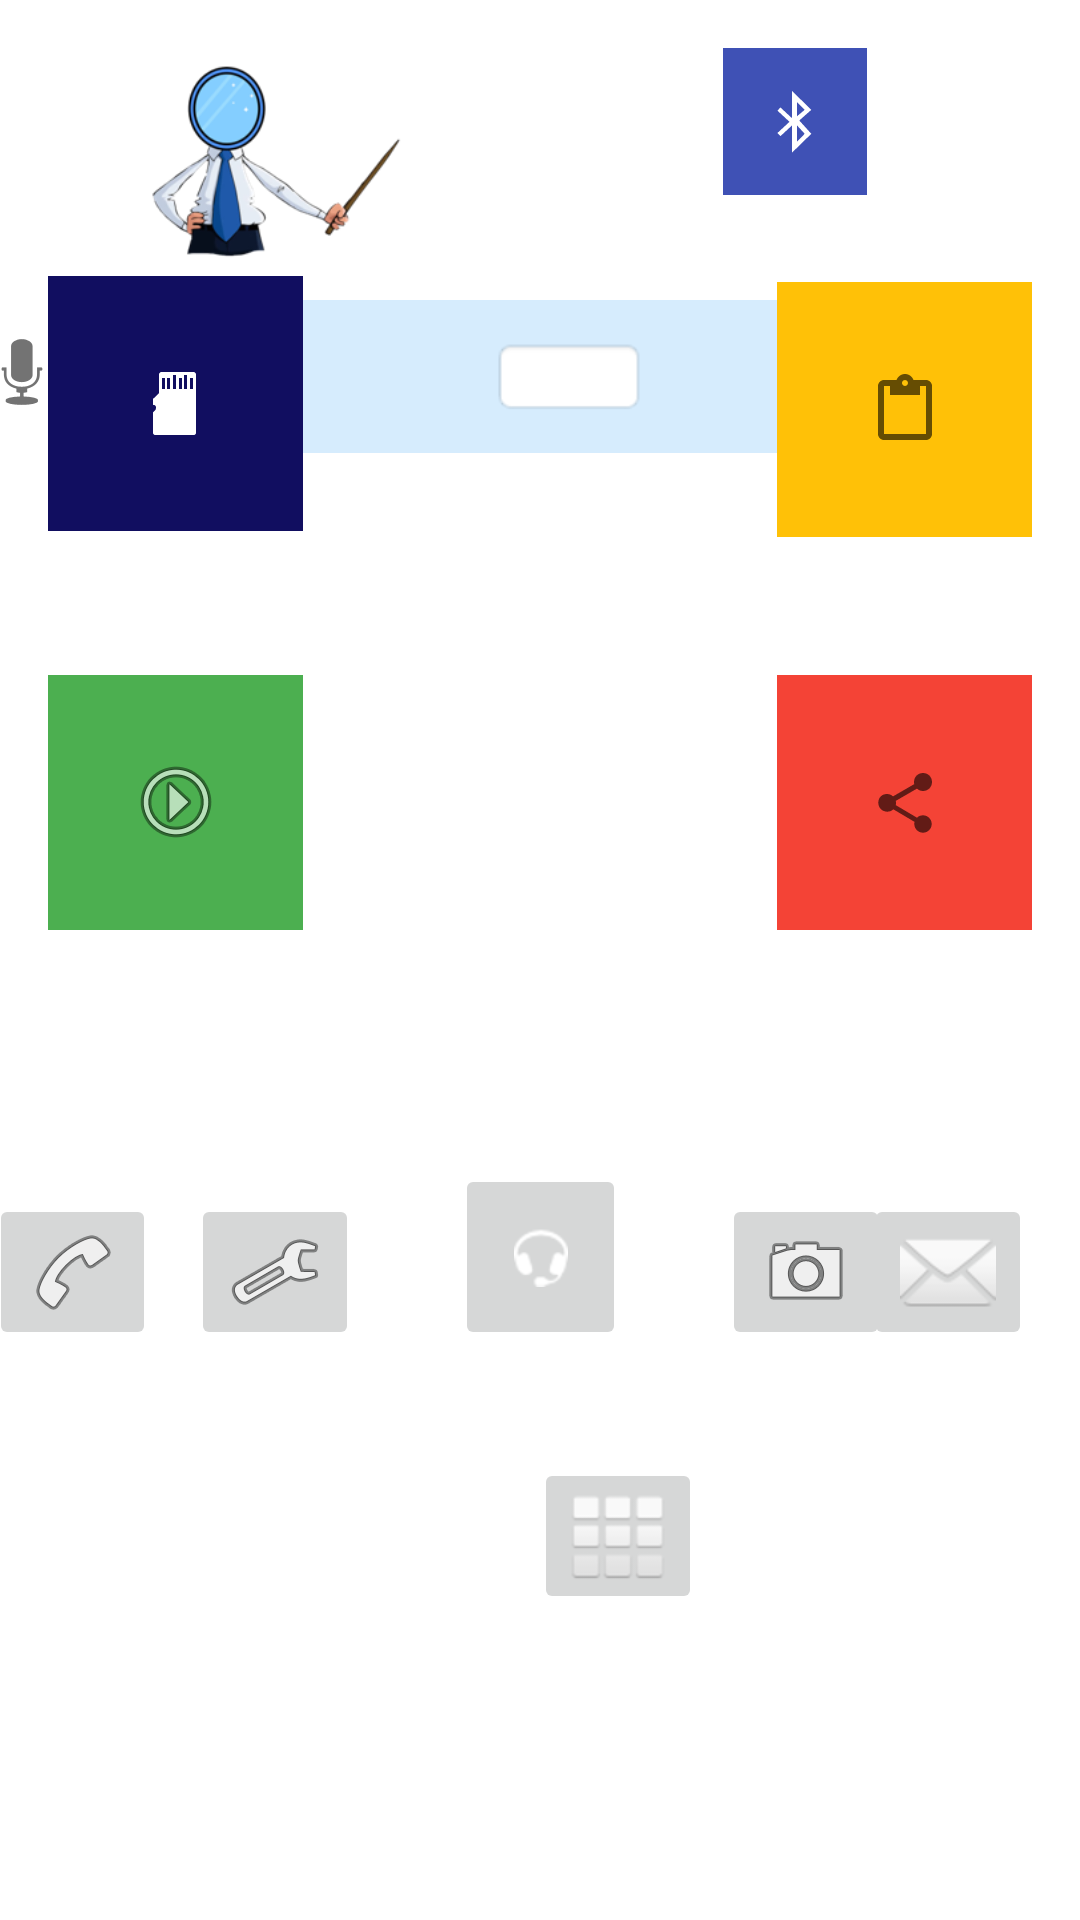

Named icons in this screenshot (1080px×1920px) and their centers, point (x, y):
call: point (72, 1272)
camera: point (812, 1272)
email: point (942, 1272)
headset: point (540, 1257)
manage: point (275, 1272)
sdcard: point (175, 403)
